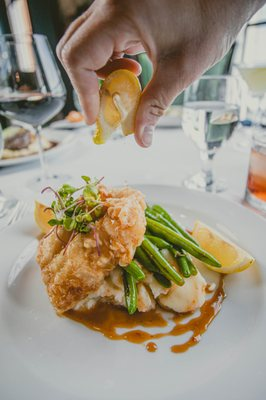pizza: (243, 139, 266, 212)
soup: (33, 178, 255, 350)
